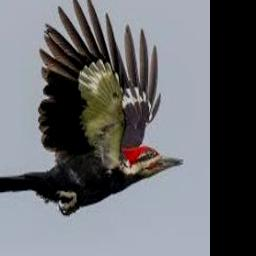Woodpecker: (0, 0, 185, 217)
